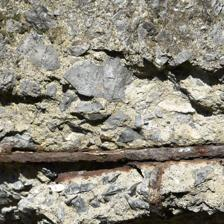Crack: (46, 23, 177, 69)
